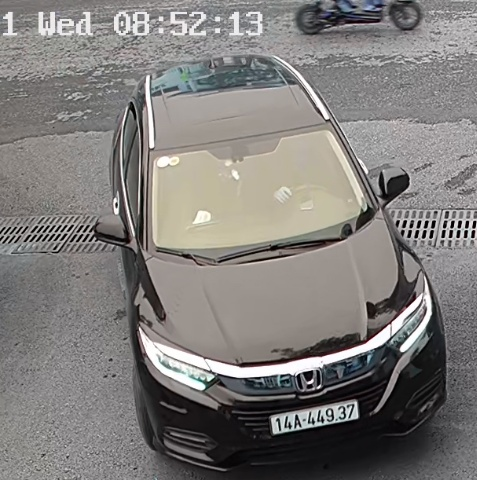vehicle plate: (253, 398, 374, 440)
